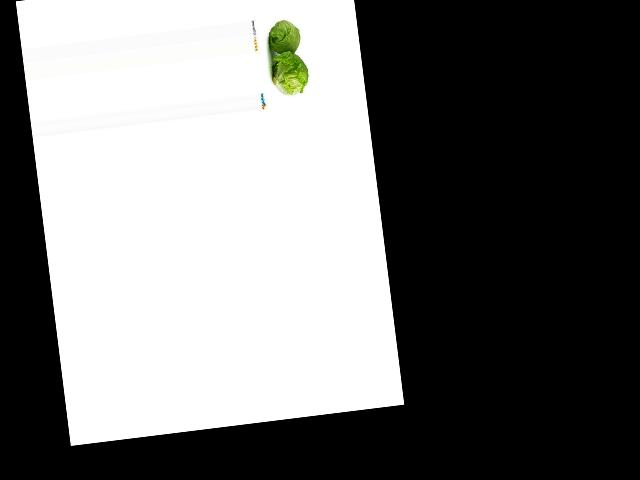lettuce: (259, 17, 303, 66)
